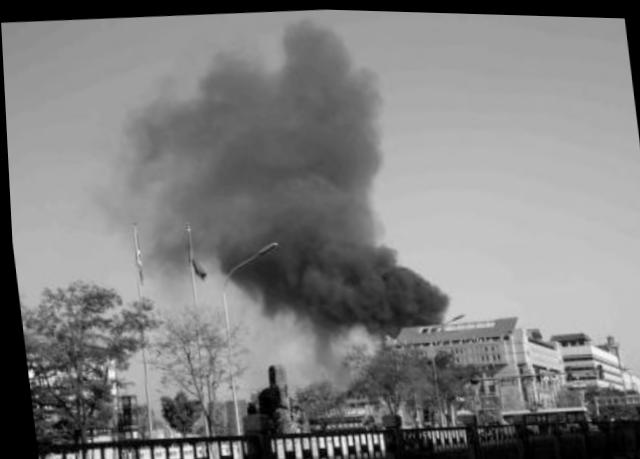smoke: (249, 20, 394, 166), (150, 46, 263, 165), (224, 159, 389, 239), (235, 219, 355, 326), (348, 225, 447, 324), (147, 175, 233, 260)
